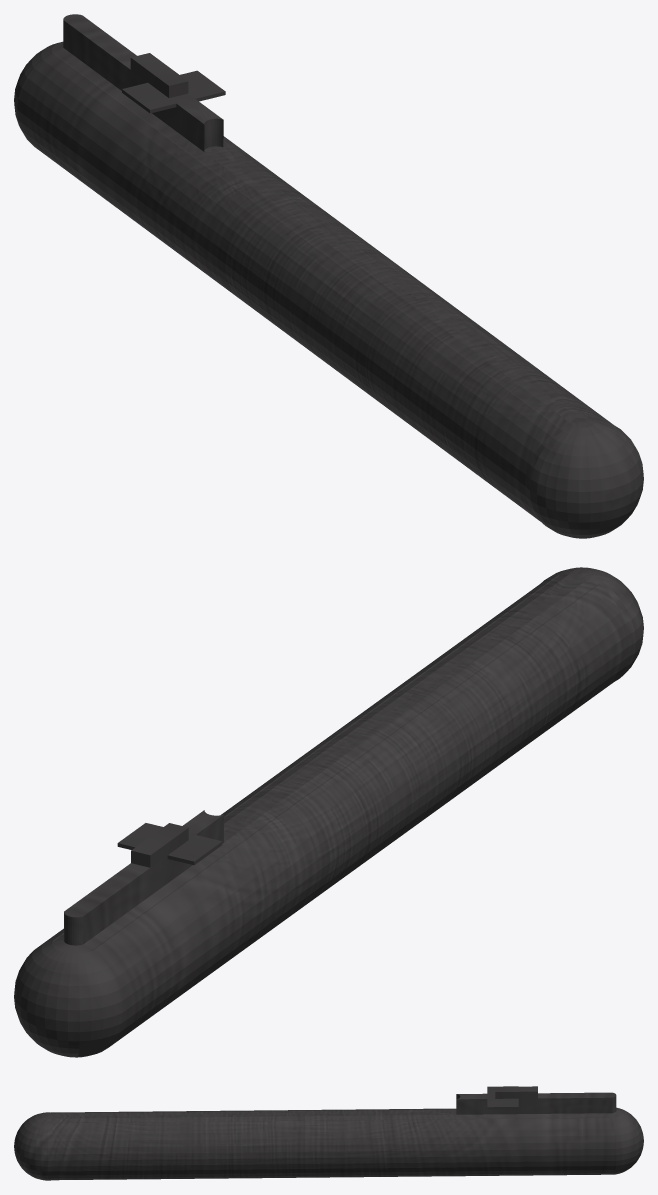
Rendered from submarine(solo).glb.
The picture shows the model from 3 angles, top to bottom: view 1: azimuth 30°, elevation 25°; view 2: azimuth 150°, elevation 25°; view 3: azimuth 270°, elevation 25°; orthographic projection. The views are drawn at different scales.
Visible parts, largest first — view 1: Sphere; view 2: Sphere; view 3: Sphere.
Boxes of the visible parts, left/top/right/bottom form: Sphere: left=14, top=14, right=643, bottom=538; Sphere: left=14, top=567, right=643, bottom=1057; Sphere: left=14, top=1086, right=643, bottom=1180.
Size of the model in its own units: 2.05 by 2.83 by 18.44.
1 material, 1 textured.
